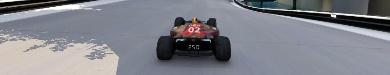Car: (155, 16, 231, 61)
obstacles-Borders: (237, 0, 389, 35)
